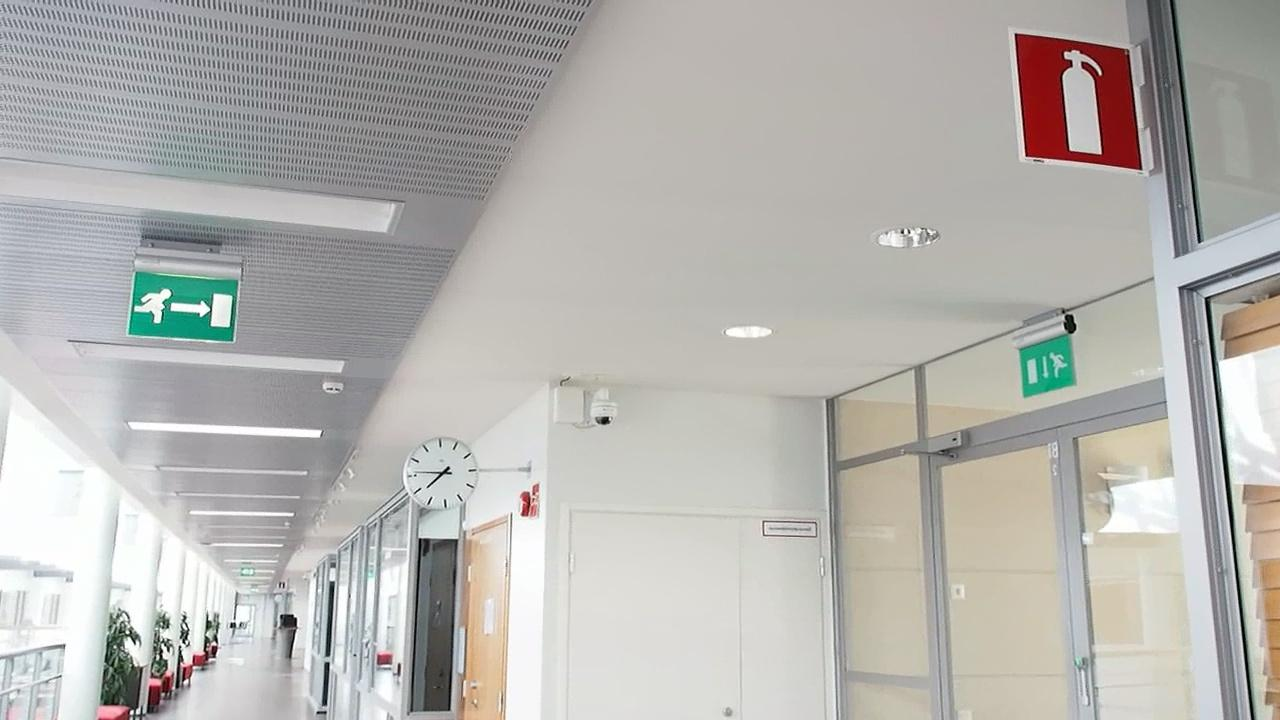clock: (398, 439, 479, 510)
exit: (120, 270, 235, 344), (1023, 344, 1085, 399)
fireextinguisher: (1023, 34, 1140, 164)
